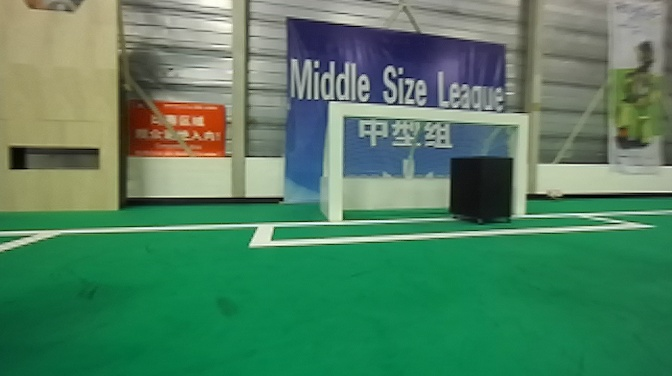ball: (545, 185, 566, 204)
goalpost: (327, 104, 345, 223), (513, 115, 530, 218)
